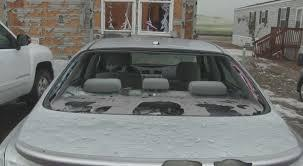Rear-windscreen-Damage: (62, 48, 241, 126)
